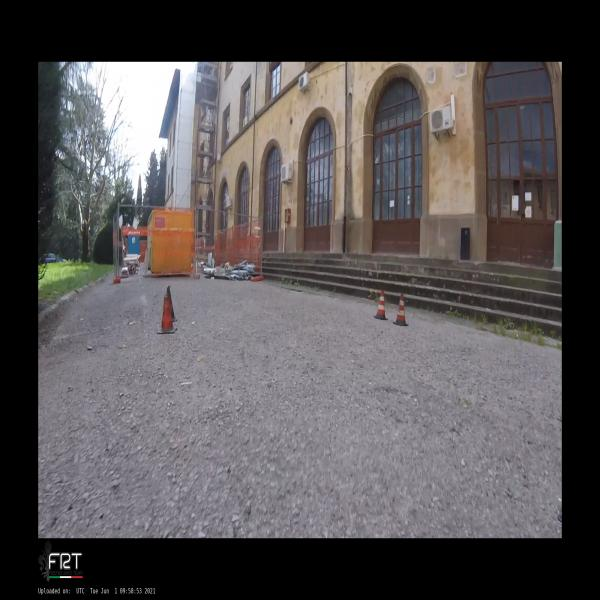large_orange_cone: (393, 293, 409, 326), (373, 290, 388, 320)
unknown_cone: (157, 294, 178, 334), (167, 286, 178, 321)
